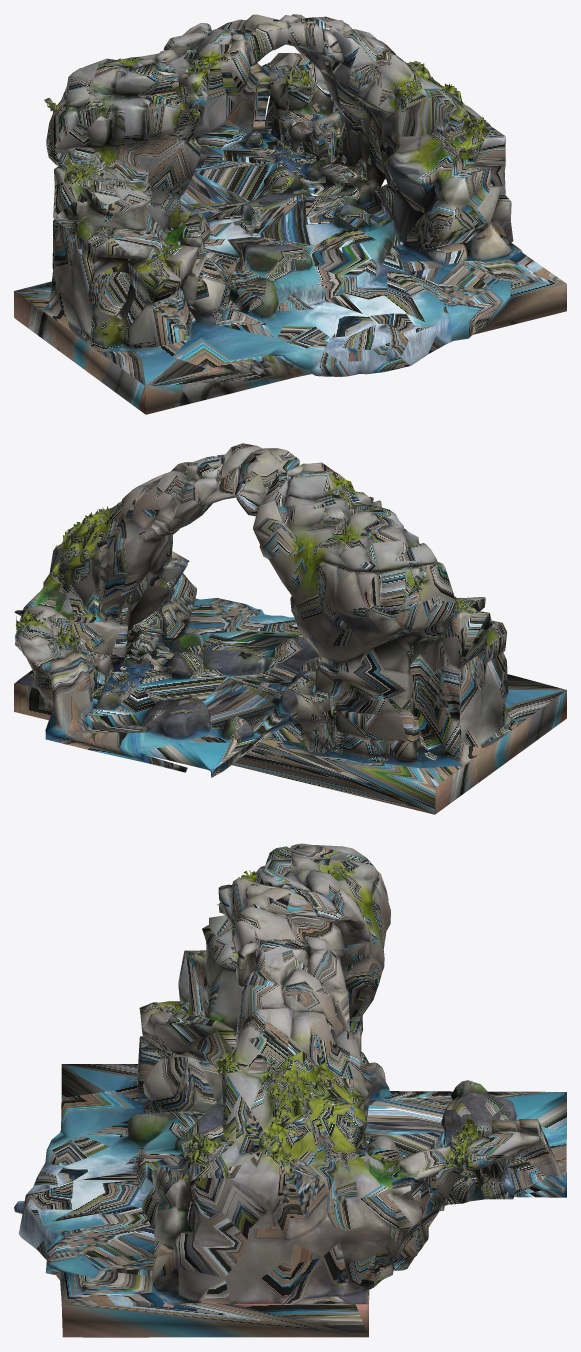
The model's file is highly_realistic_dior.glb.
3 views of the same model, one above another, from view 1: azimuth 30°, elevation 25°; view 2: azimuth 150°, elevation 25°; view 3: azimuth 270°, elevation 25° (orthographic). The views are drawn at different scales.
Visible parts, largest first — view 1: highly_realistic_dior; view 2: highly_realistic_dior; view 3: highly_realistic_dior.
Part boxes in pixels (box(x1,y1,x2,y2)): highly_realistic_dior: box(14, 14, 566, 414); highly_realistic_dior: box(14, 443, 566, 814); highly_realistic_dior: box(14, 843, 566, 1337).
Bounding box in the file's own units: 2 × 1.27 × 1.94.
Materials: 1 (1 with a texture image).
